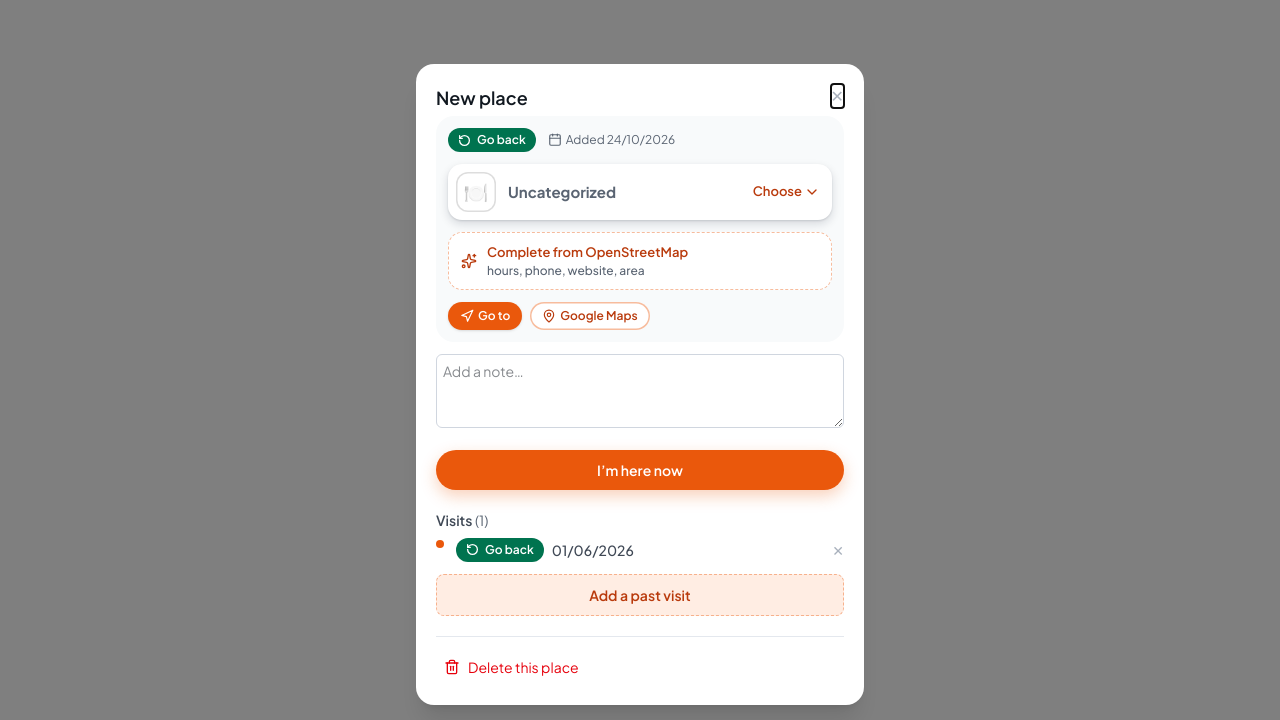
it: RestaurantDetail › tells the user when a visit could not be deleted, and keeps it listed
The width and height of the screenshot is (1280, 720).
Click the button named "Delete visit on 01/06/2026": (838, 550) left=832, top=540, right=844, bottom=560
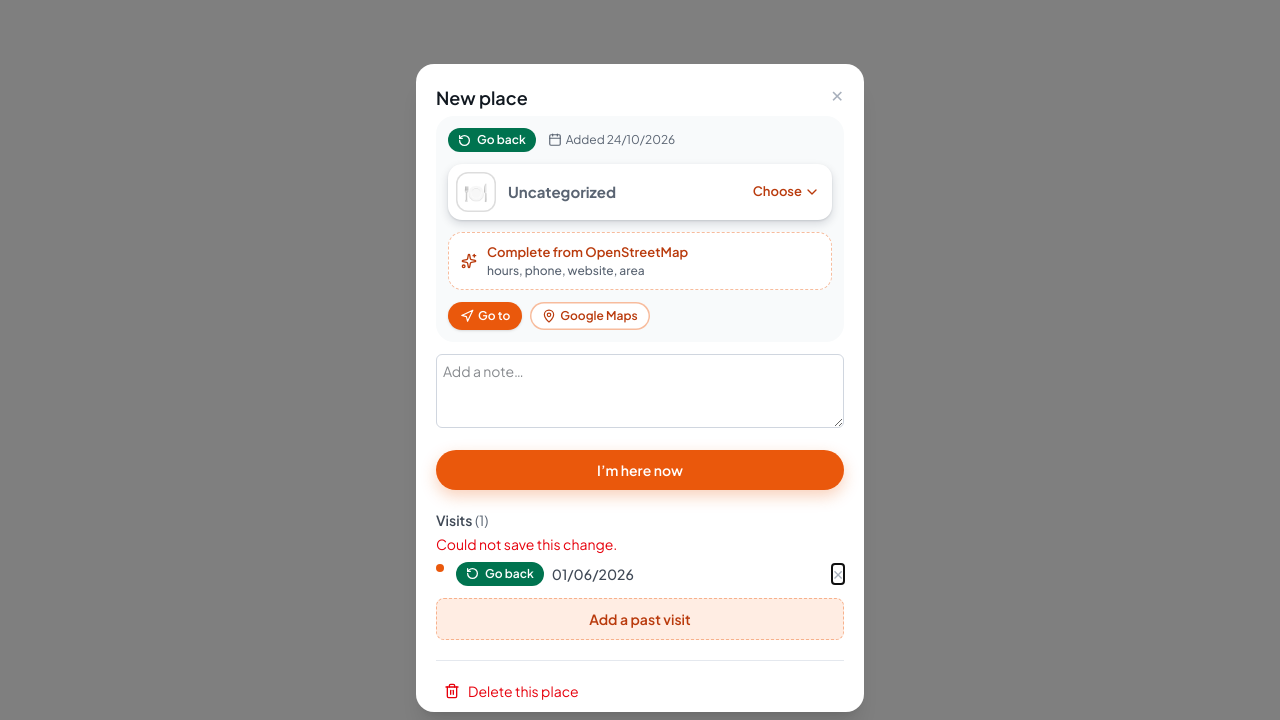
Expected: the button named "Delete visit on 01/06/2026" is shown, left=832, top=564, right=844, bottom=584
Expected: the message reads "Could not save this change.", left=436, top=534, right=617, bottom=552
